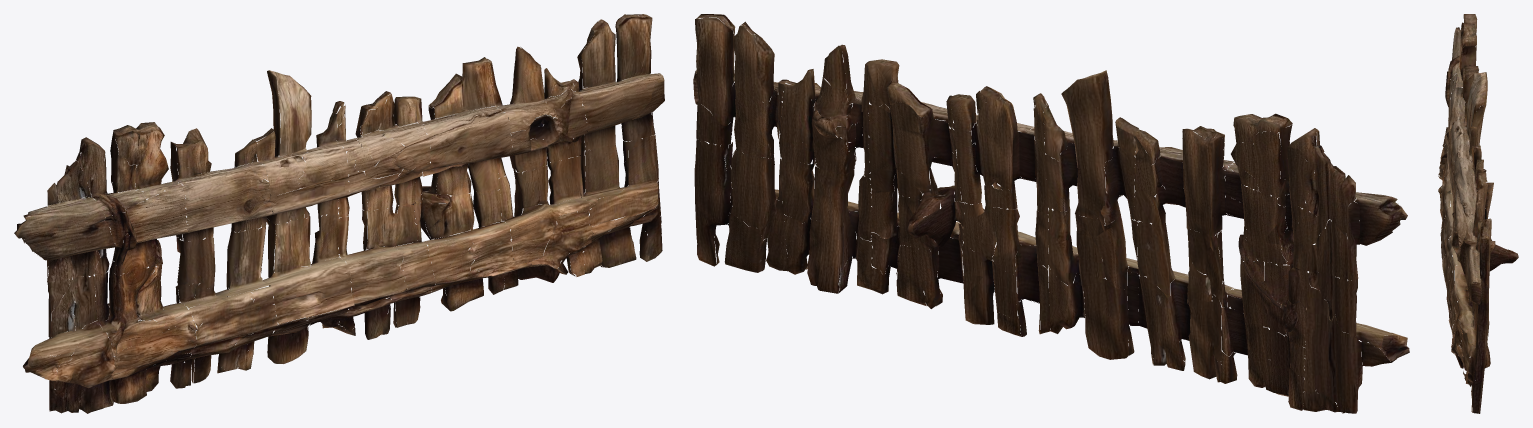
The model's file is valla.glb.
3 renders of one model, left to right at view 1: azimuth 30°, elevation 25°; view 2: azimuth 150°, elevation 25°; view 3: azimuth 270°, elevation 25°, orthographic. The views are drawn at different scales.
Visible parts, largest first — view 1: tripo_node_181b4322-09fa-4a00-bd05-0d387bdf2f09; view 2: tripo_node_181b4322-09fa-4a00-bd05-0d387bdf2f09; view 3: tripo_node_181b4322-09fa-4a00-bd05-0d387bdf2f09.
Boxes of the visible parts, x1,y1,x2,y2 form: tripo_node_181b4322-09fa-4a00-bd05-0d387bdf2f09: (14, 14, 664, 413); tripo_node_181b4322-09fa-4a00-bd05-0d387bdf2f09: (693, 14, 1409, 413); tripo_node_181b4322-09fa-4a00-bd05-0d387bdf2f09: (1438, 14, 1518, 413).
Size of the model in its own units: 1 by 0.41 by 0.1418.
1 material, 1 textured.
